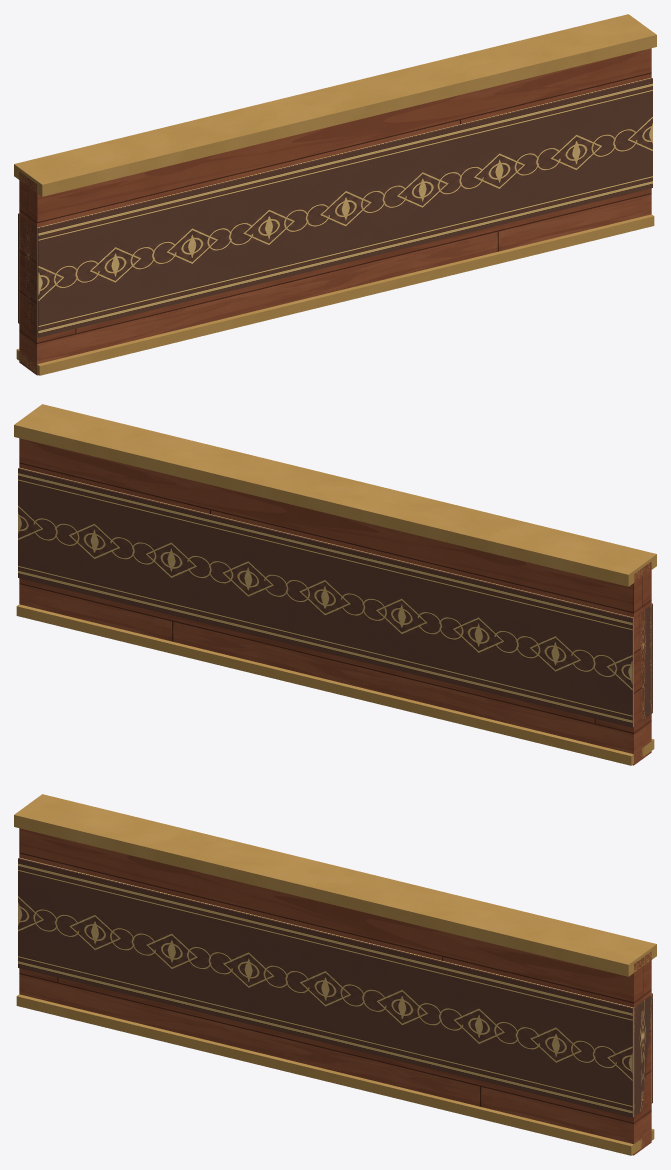
File: SM_Theater_Stage_Lip4.fbx
3 renders of one model, top to bottom at view 1: azimuth 30°, elevation 25°; view 2: azimuth 150°, elevation 25°; view 3: azimuth 330°, elevation 25°, orthographic.
Visible parts, largest first — view 1: SM_Theater_Stage_Lip4_LOD0; view 2: SM_Theater_Stage_Lip4_LOD0; view 3: SM_Theater_Stage_Lip4_LOD0.
Part boxes in pixels (x1,y1,x2,y2): SM_Theater_Stage_Lip4_LOD0: [14, 14, 656, 375]; SM_Theater_Stage_Lip4_LOD0: [14, 404, 656, 765]; SM_Theater_Stage_Lip4_LOD0: [14, 794, 656, 1155].
Size of what is drawn, in the model's own units: 4 by 1.21 by 0.32.
